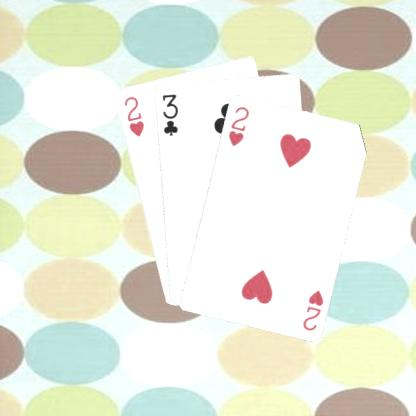2H: (299, 286, 325, 332), (225, 102, 250, 148), (121, 93, 145, 138)
3C: (159, 90, 179, 136)
